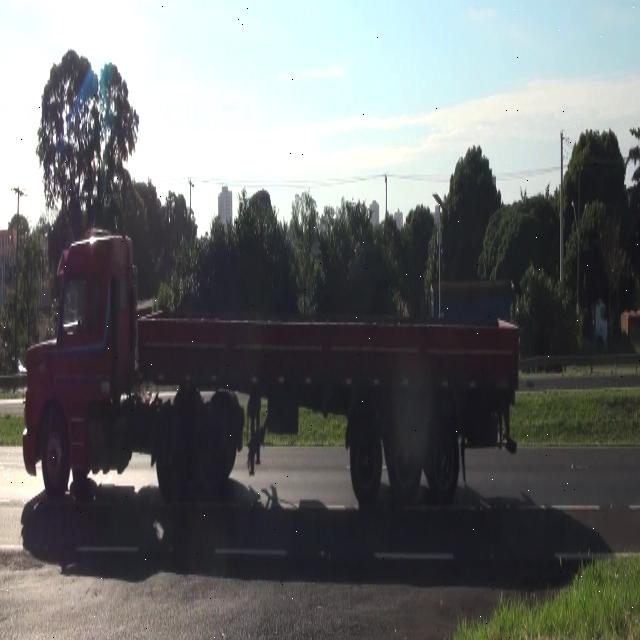-axle: (343, 409, 386, 501), (388, 399, 425, 501), (158, 404, 192, 504), (430, 405, 458, 499), (194, 414, 222, 495), (39, 415, 64, 492)
